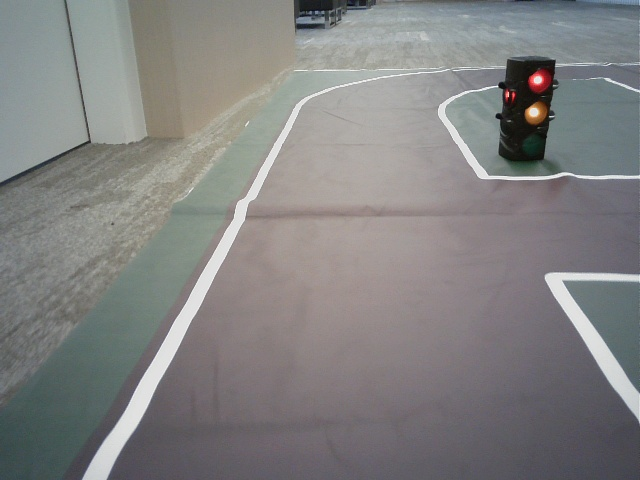red: (517, 64, 550, 159)
